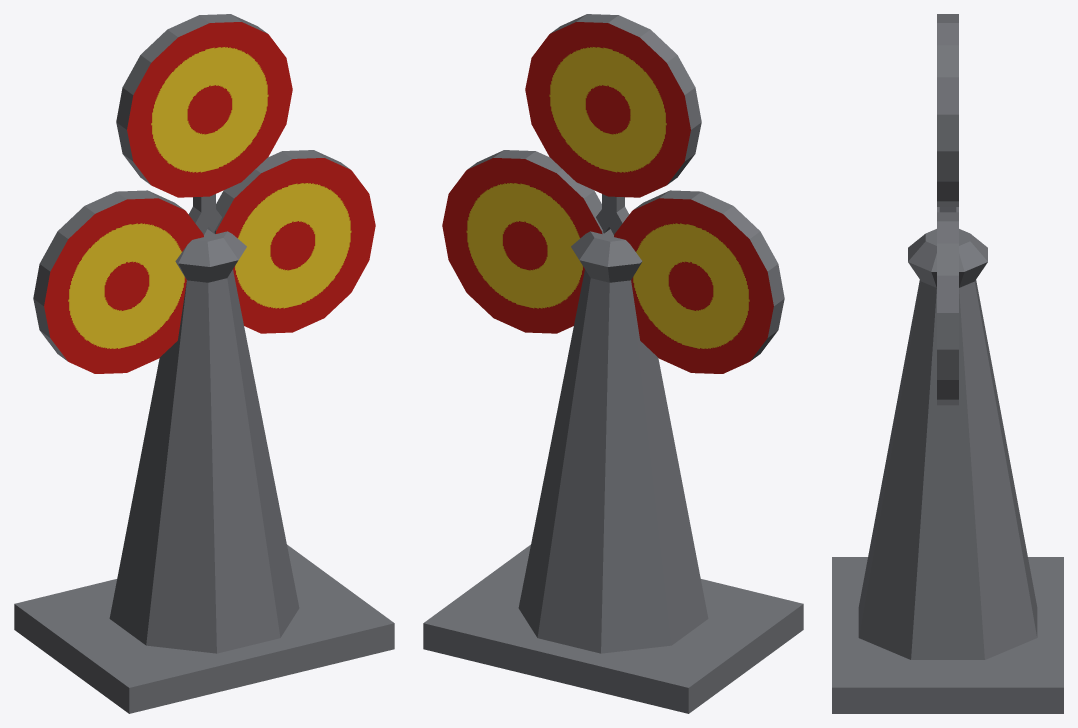
File: triple_target_grey.glb
The picture shows the model from 3 angles, left to right: view 1: azimuth 30°, elevation 25°; view 2: azimuth 150°, elevation 25°; view 3: azimuth 270°, elevation 25°; orthographic projection.
Visible parts, largest first — view 1: triple_target_grey; view 2: triple_target_grey; view 3: triple_target_grey.
Boxes of the visible parts, x1,y1,x2,y2 form: triple_target_grey: [14, 14, 394, 713]; triple_target_grey: [423, 14, 803, 713]; triple_target_grey: [832, 14, 1063, 713].
Bounding box in the file's own units: 2.43 × 4.34 × 1.46.
1 material, 1 textured.
